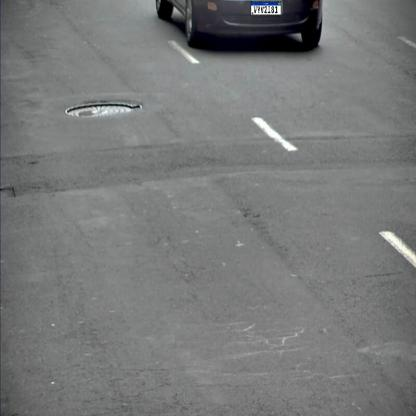PlacaM: (251, 2, 281, 16)
